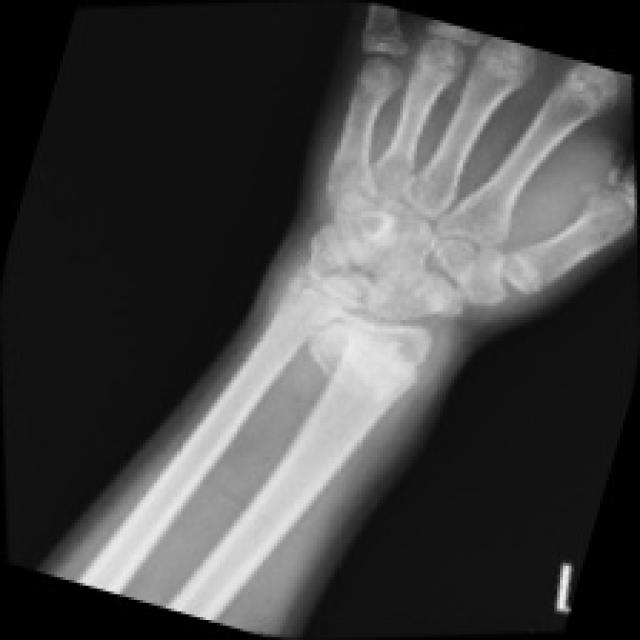fracture: (470, 226, 591, 328), (352, 18, 414, 92)
